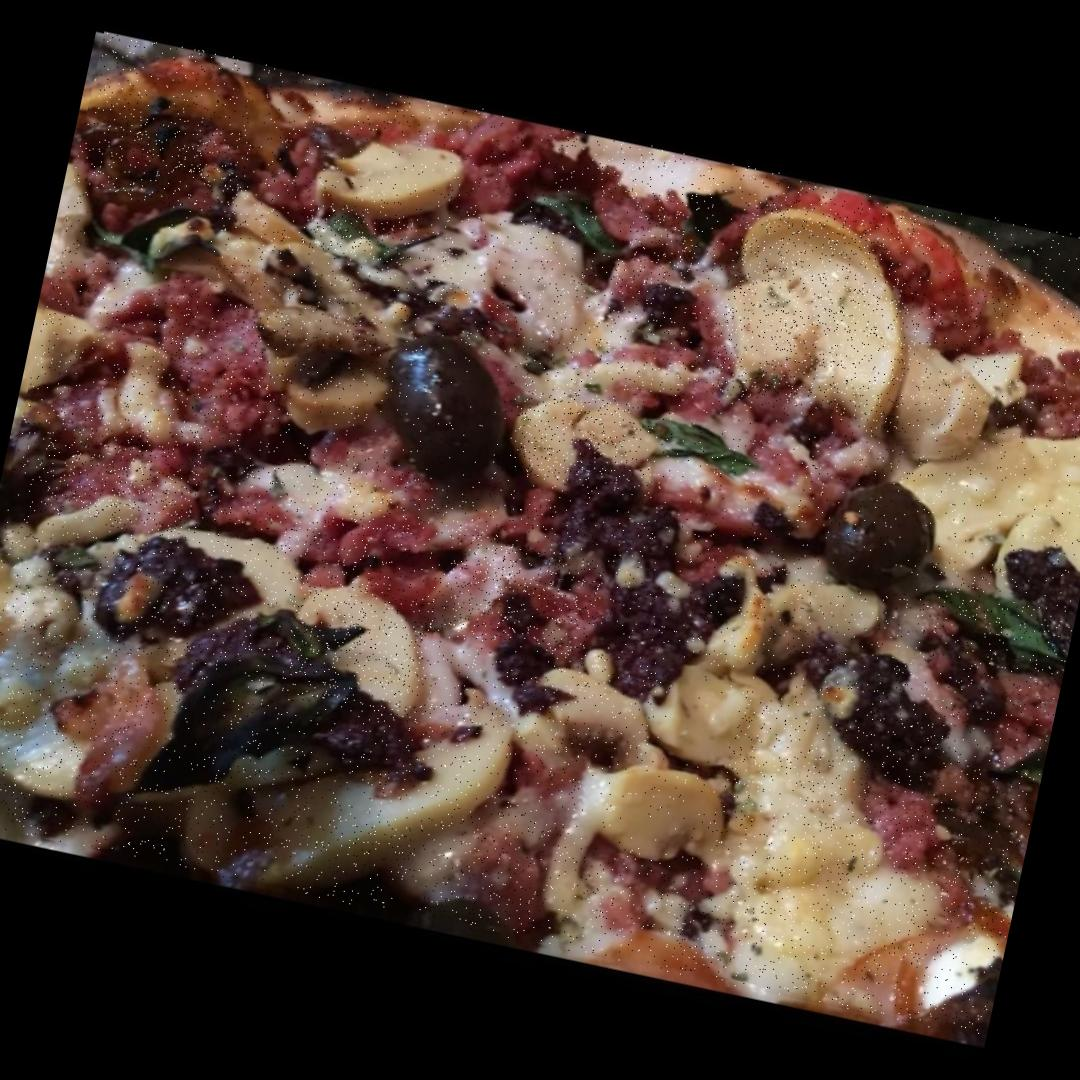Basil: (912, 574, 1068, 669), (82, 193, 222, 285), (636, 402, 765, 483), (521, 182, 637, 268), (301, 198, 422, 270)
Cheese: (682, 691, 988, 1022), (918, 416, 1080, 589)
Ham: (91, 276, 291, 459), (216, 440, 435, 580), (28, 402, 208, 543), (438, 530, 609, 664), (664, 395, 816, 534), (92, 106, 256, 228), (584, 182, 706, 304), (449, 112, 557, 222)
Mushroom: (708, 199, 938, 428), (280, 570, 442, 720), (106, 503, 310, 622), (574, 751, 749, 877), (646, 656, 796, 783), (513, 386, 648, 498), (319, 126, 453, 234), (702, 560, 821, 670), (287, 370, 400, 464)
Olives: (370, 331, 514, 486), (825, 465, 936, 598)
Pizza: (0, 29, 1080, 1040)
